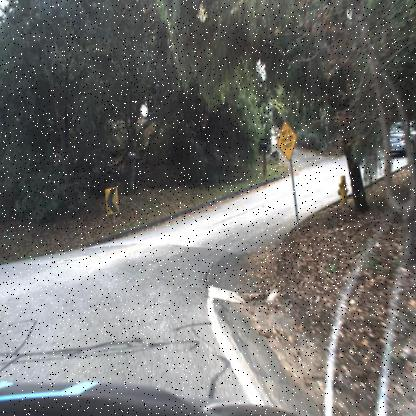car: (384, 120, 415, 162)
